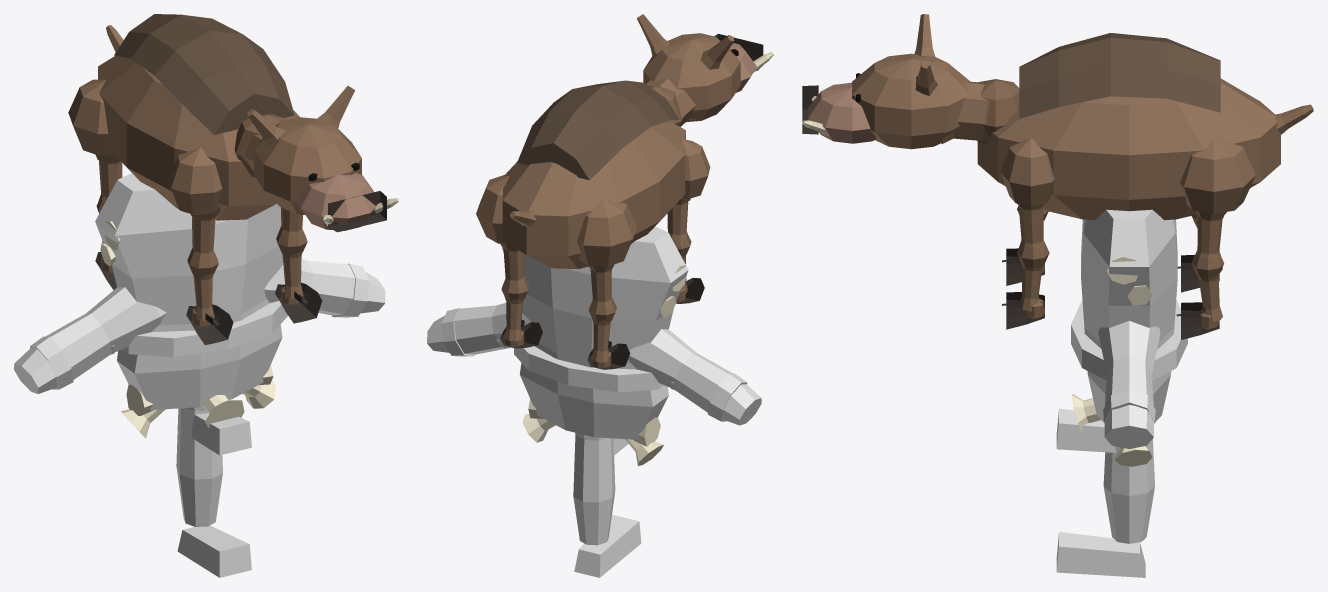
Rendered from boar.glb.
3 renders of one model, left to right at view 1: azimuth 30°, elevation 25°; view 2: azimuth 150°, elevation 25°; view 3: azimuth 270°, elevation 25°, orthographic. The views are drawn at different scales.
Visible parts, largest first — view 1: CutMode_RoundishTorso, Boar_SolidManeBlade, Boar_BarrelTorso, CutMode_L_LegFoot_Unified, CutMode_L_ArmHand_Unified, Boar_HeadBlock, CutMode_BeltBand, CutMode_R_ArmHand_Unified, Boar_Snout, Boar_L_FrontShoulderMass, Boar_L_RearHaunchMass, CutMode_L_CalfFoot (+20 smaller); view 2: CutMode_RoundishTorso, Boar_BarrelTorso, Boar_SolidManeBlade, CutMode_L_LegFoot_Unified, CutMode_L_ArmHand_Unified, Boar_HeadBlock, CutMode_BeltBand, Boar_L_RearHaunchMass, CutMode_R_LegFoot_Unified, CutMode_R_ArmHand_Unified, Boar_R_RearHaunchMass, Boar_L_FrontShoulderMass (+16 smaller); view 3: Boar_BarrelTorso, Boar_SolidManeBlade, CutMode_RoundishTorso, Boar_HeadBlock, CutMode_L_LegFoot_Unified, CutMode_R_ArmHand_Unified, Boar_R_RearHaunchMass, Boar_R_FrontShoulderMass, Boar_Snout, CutMode_BeltBand, CutMode_L_CalfFoot, Boar_NeckJointBall (+9 smaller).
Boxes of the visible parts, x1=… form: CutMode_RoundishTorso: x1=95, y1=173, x2=282, y2=410; Boar_SolidManeBlade: x1=114, y1=14, x2=294, y2=134; Boar_BarrelTorso: x1=98, y1=56, x2=299, y2=220; CutMode_L_LegFoot_Unified: x1=176, y1=406, x2=251, y2=577; CutMode_L_ArmHand_Unified: x1=14, y1=287, x2=166, y2=393; Boar_HeadBlock: x1=254, y1=117, x2=361, y2=214; CutMode_BeltBand: x1=122, y1=301, x2=288, y2=357; CutMode_R_ArmHand_Unified: x1=264, y1=259, x2=385, y2=315; Boar_Snout: x1=296, y1=173, x2=376, y2=230; Boar_L_FrontShoulderMass: x1=169, y1=147, x2=222, y2=214; Boar_L_RearHaunchMass: x1=68, y1=79, x2=115, y2=156; CutMode_L_CalfFoot: x1=177, y1=413, x2=251, y2=455; CutMode_RoundishTorso: x1=501, y1=226, x2=688, y2=439; Boar_BarrelTorso: x1=502, y1=121, x2=685, y2=269; Boar_SolidManeBlade: x1=517, y1=80, x2=679, y2=180; CutMode_L_LegFoot_Unified: x1=574, y1=433, x2=641, y2=576; CutMode_L_ArmHand_Unified: x1=628, y1=329, x2=761, y2=425; Boar_HeadBlock: x1=643, y1=33, x2=740, y2=121; CutMode_BeltBand: x1=514, y1=346, x2=663, y2=392; Boar_L_RearHaunchMass: x1=577, y1=198, x2=636, y2=266; CutMode_R_LegFoot_Unified: x1=573, y1=432, x2=638, y2=577; CutMode_R_ArmHand_Unified: x1=427, y1=302, x2=530, y2=354; Boar_R_RearHaunchMass: x1=476, y1=175, x2=509, y2=243; Boar_L_FrontShoulderMass: x1=681, y1=139, x2=710, y2=199; Boar_BarrelTorso: x1=977, y1=78, x2=1280, y2=220; Boar_SolidManeBlade: x1=1019, y1=33, x2=1220, y2=118; CutMode_RoundishTorso: x1=1081, y1=209, x2=1177, y2=423; Boar_HeadBlock: x1=852, y1=53, x2=970, y2=149; CutMode_L_LegFoot_Unified: x1=1056, y1=439, x2=1154, y2=577; CutMode_R_ArmHand_Unified: x1=1098, y1=320, x2=1160, y2=448; Boar_R_RearHaunchMass: x1=1180, y1=138, x2=1255, y2=213; Boar_R_FrontShoulderMass: x1=1000, y1=138, x2=1054, y2=205; Boar_Snout: x1=808, y1=82, x2=876, y2=143; CutMode_BeltBand: x1=1071, y1=300, x2=1187, y2=380; CutMode_L_CalfFoot: x1=1056, y1=408, x2=1115, y2=452; Boar_NeckJointBall: x1=977, y1=79, x2=1019, y2=143.
Bounding box in the file's own units: 1.77 × 2.51 × 2.18.
